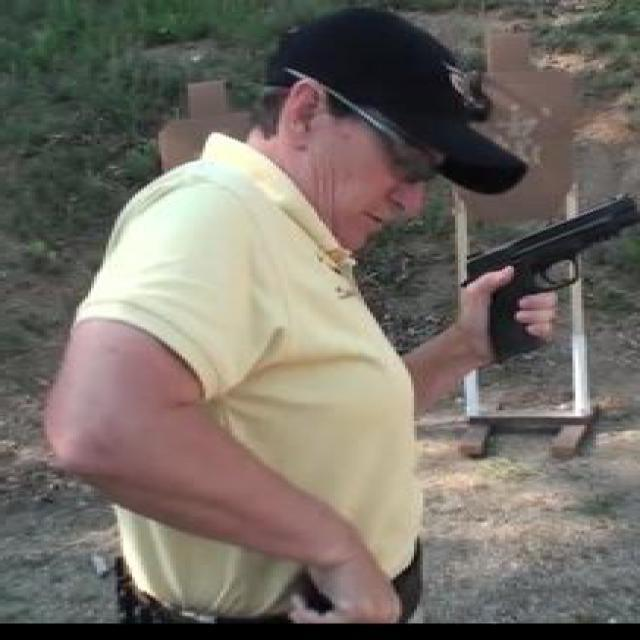Gun: (467, 189, 637, 358)
